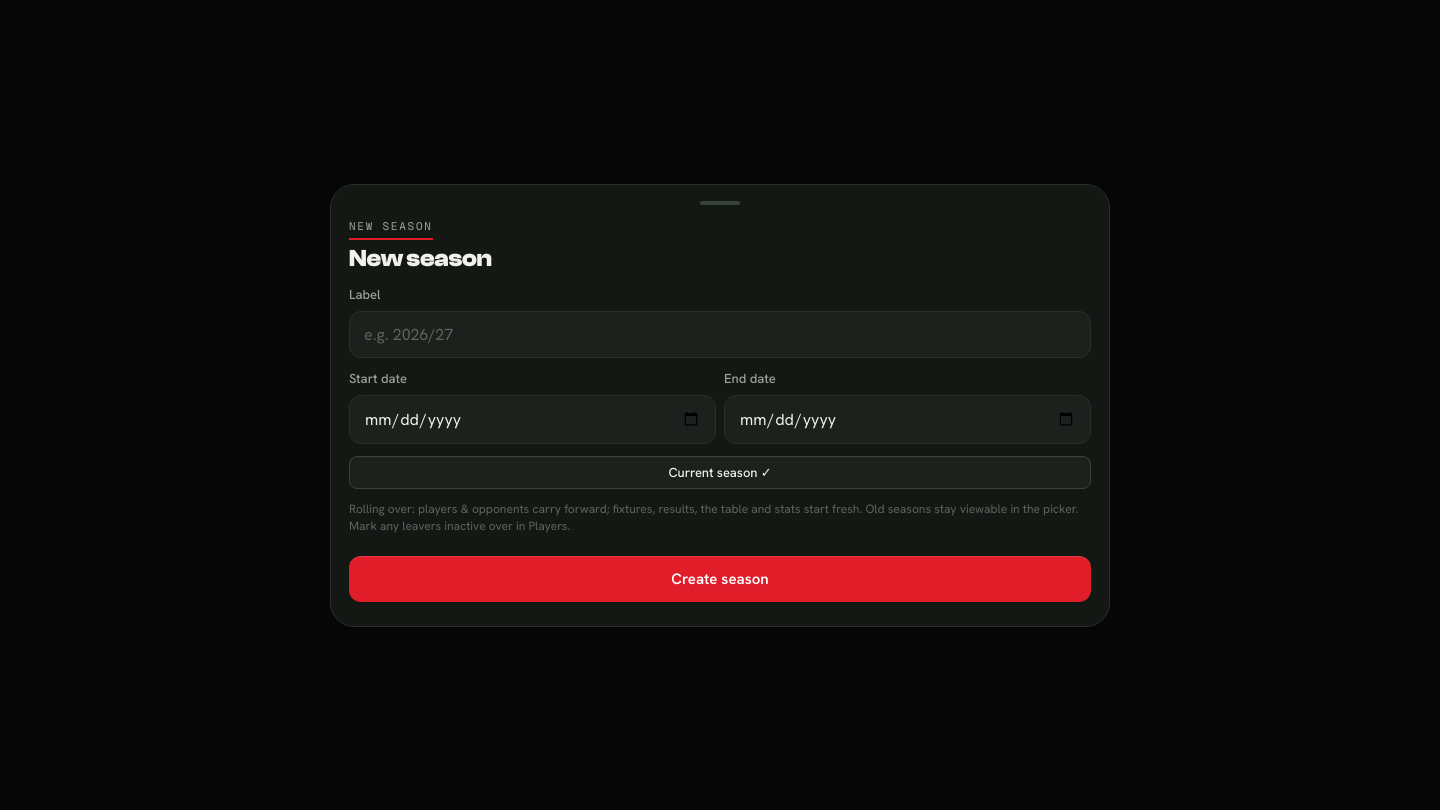
SeasonForm — the "current season" switch › a new season defaults to becoming current and can be un-ticked
Click the button "Current season ✓": {"x": 720, "y": 472} [349,456,1091,489]
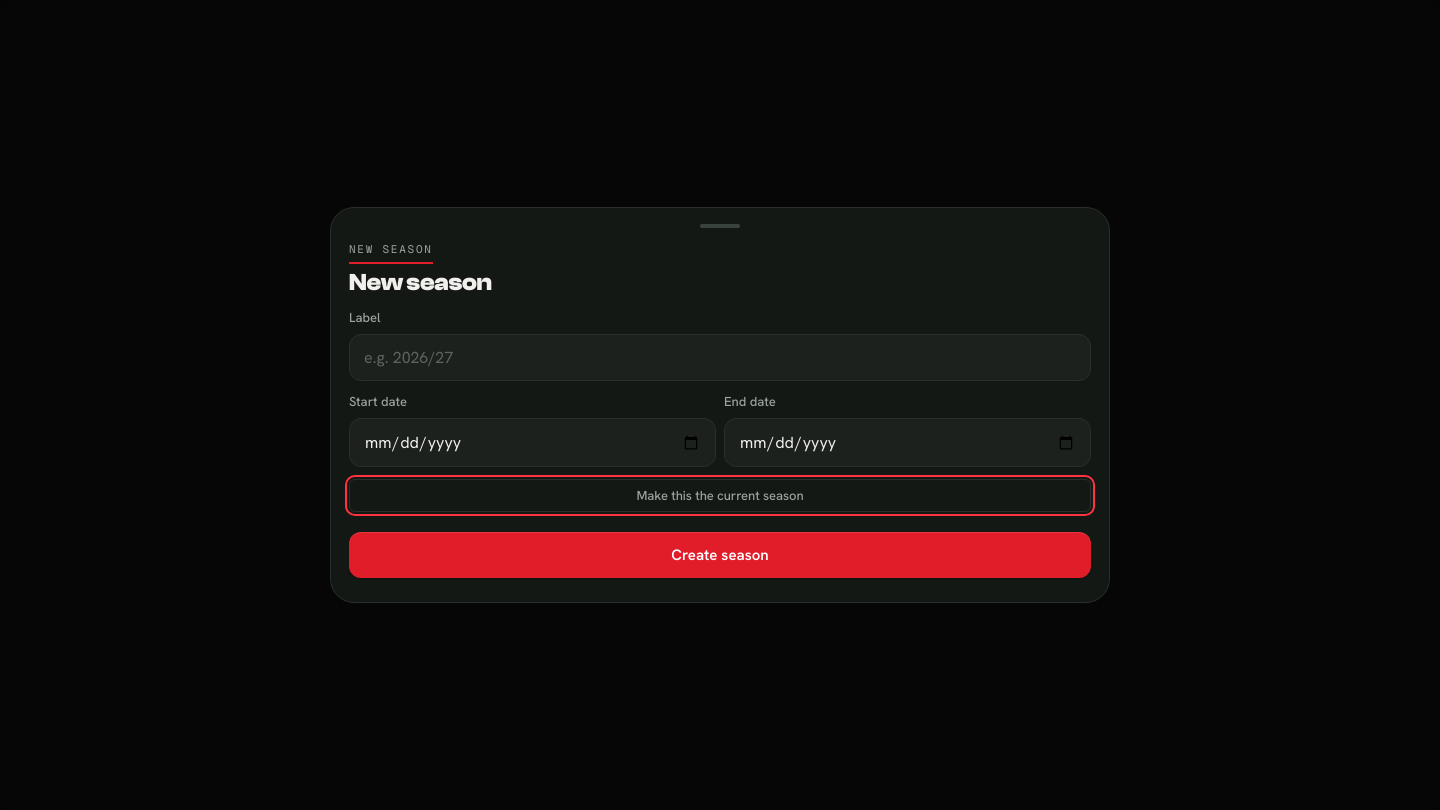
Now the button "Make this the current season" is shown, box [349,479,1091,512]
